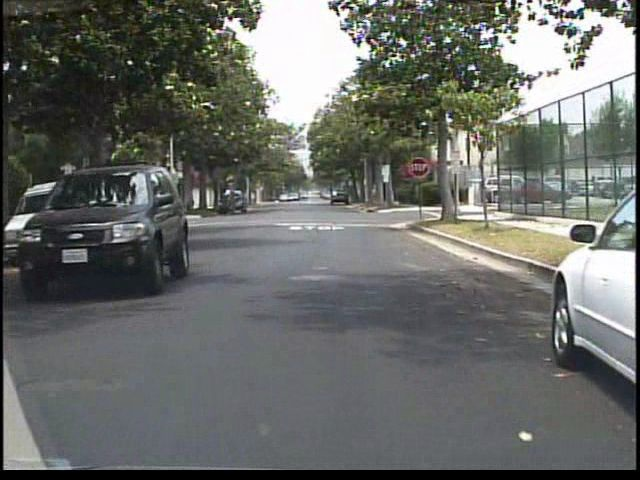person: (225, 180, 246, 221)
